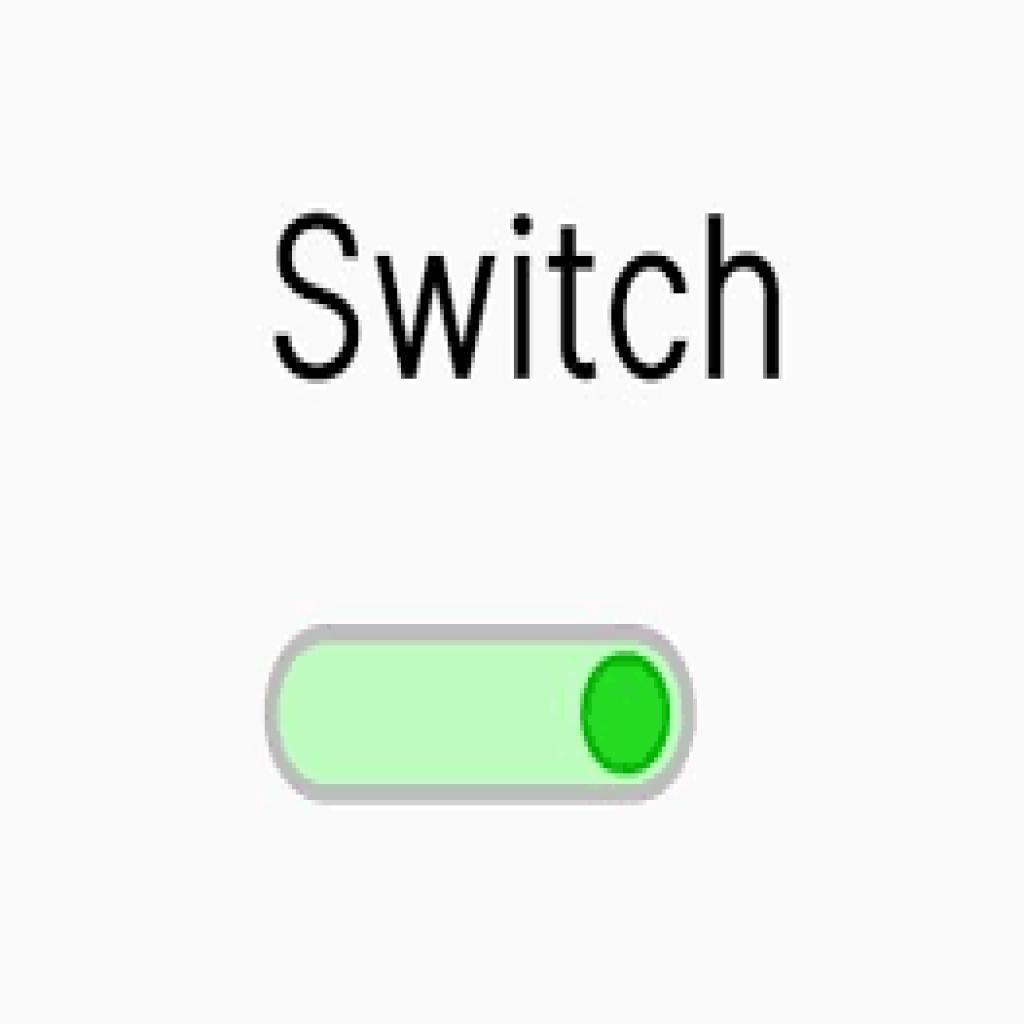switch: (266, 625, 698, 806)
